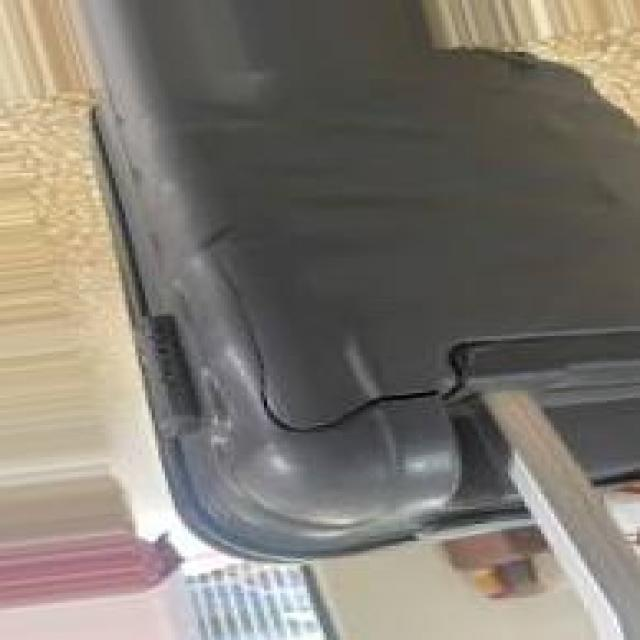Suitcase: (85, 24, 640, 640)
